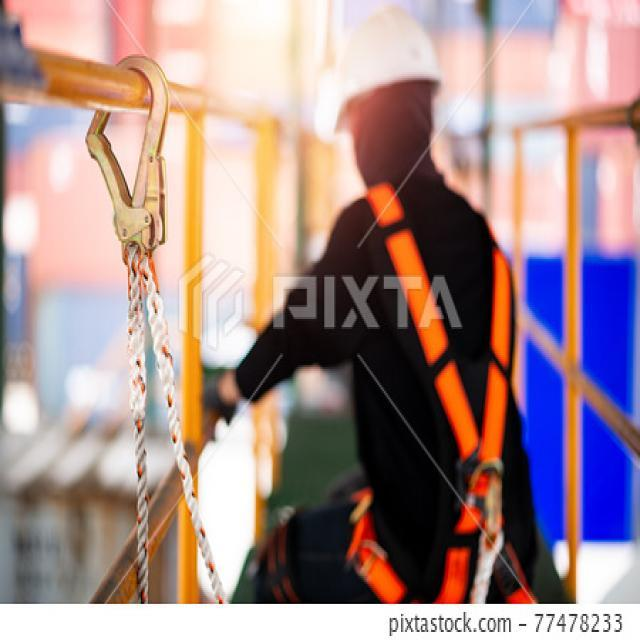belt: (377, 217, 520, 513)
